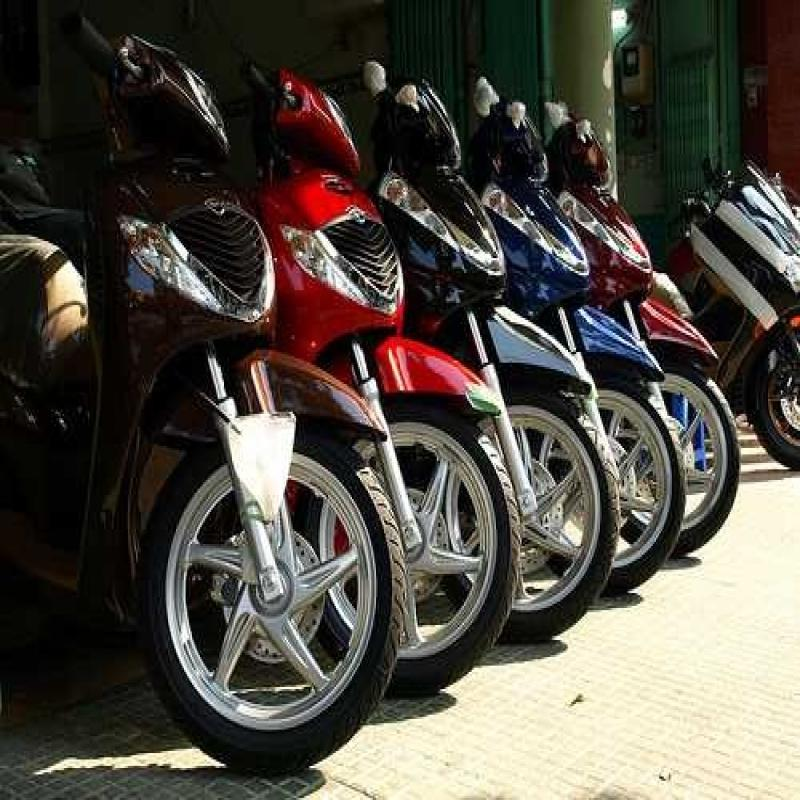bike: (42, 13, 376, 800), (271, 0, 493, 708), (542, 77, 748, 538)
